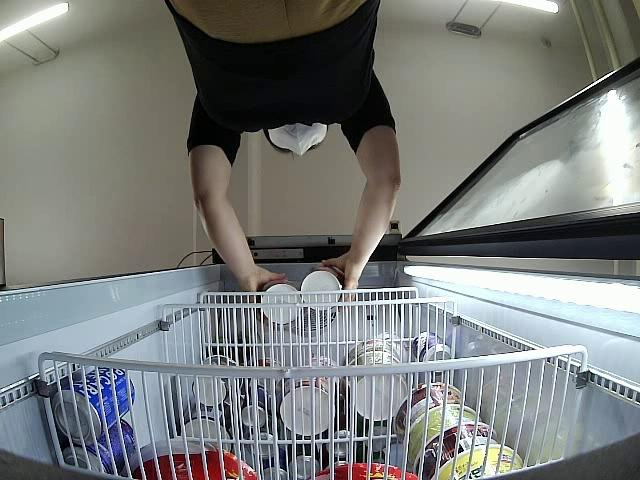00_hand: (322, 253, 365, 316), (245, 266, 287, 323)
01_shinRamen_L: (302, 265, 345, 313), (257, 280, 301, 325)
